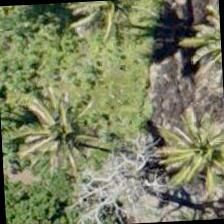Kelapa_Sawit: (20, 86, 114, 181), (147, 109, 223, 204)
